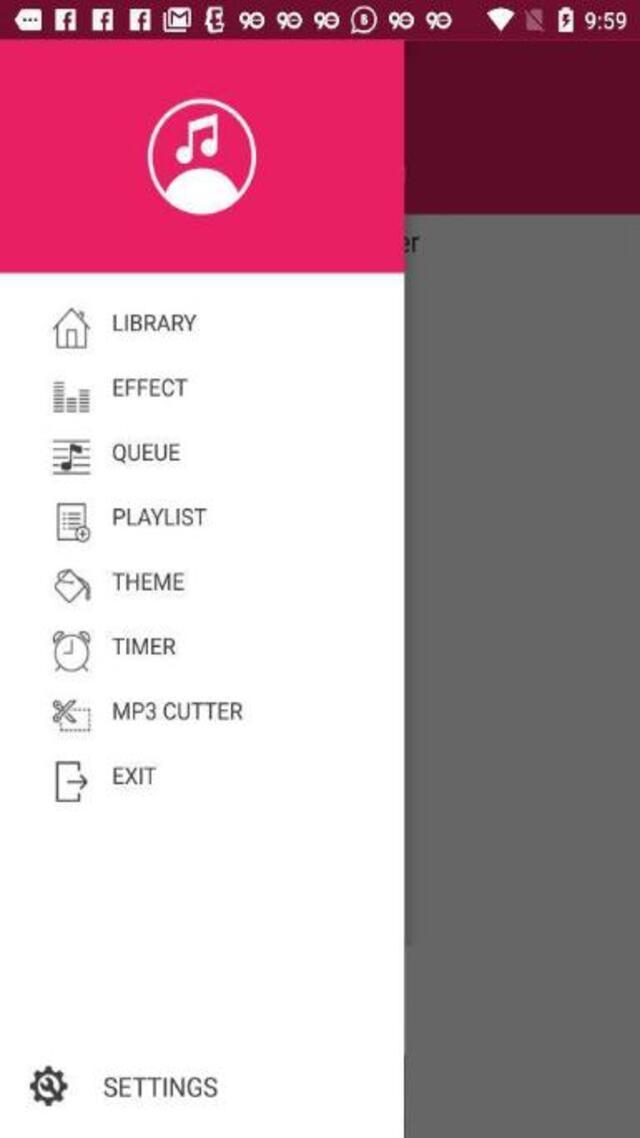Icon: (52, 306, 92, 348), (28, 1064, 68, 1105), (52, 630, 90, 672), (52, 436, 92, 474), (56, 502, 90, 544), (55, 759, 88, 802), (52, 380, 92, 414), (52, 698, 92, 732), (54, 568, 92, 602)
Image: (146, 98, 256, 215)
Text: (112, 699, 244, 720), (104, 1073, 218, 1096), (112, 506, 207, 526), (112, 312, 197, 332), (112, 571, 184, 592), (114, 376, 189, 396), (112, 443, 182, 464), (112, 635, 177, 656), (114, 766, 159, 786)
